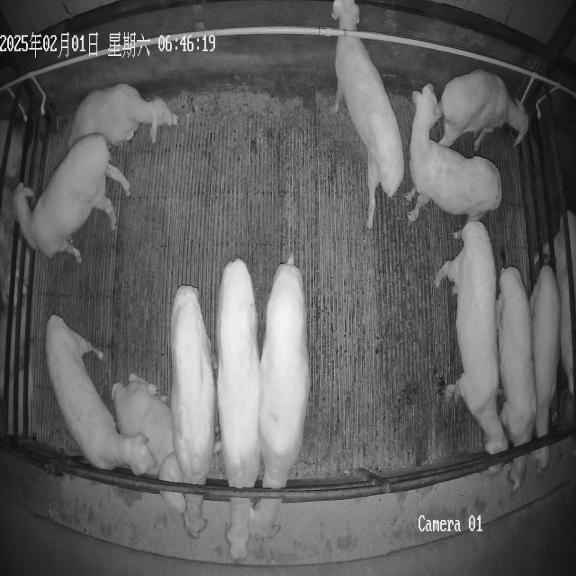drinking: (436, 70, 528, 155)
eating: (250, 254, 310, 538), (217, 258, 260, 561), (170, 285, 215, 538), (496, 266, 537, 490), (530, 264, 561, 469)
lying: (111, 373, 187, 520), (68, 84, 178, 147)
stand: (435, 220, 509, 473), (45, 315, 153, 475), (332, 0, 404, 229), (14, 133, 130, 262), (406, 84, 502, 221)
